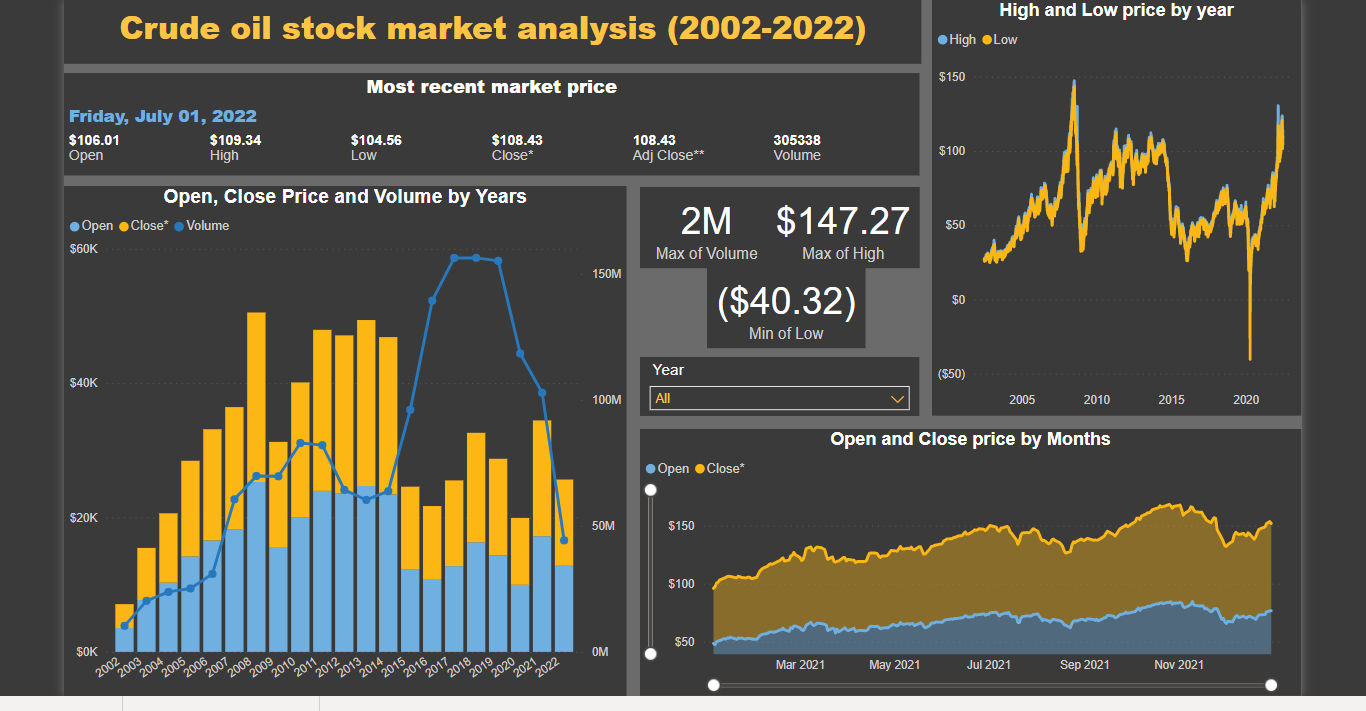

The page's visual inventory and layout, read from the dashboard file:
{"tool":"powerbi","page":{"name":"Page 1","canvas":[1280,720],"ordinal":0},"visuals":[{"type":"lineStackedColumnComboChart","title":"Open, Close Price  and Volume by Years","fields":{"Category":["CrudeOil.Date.Variation.Date Hierarchy.Year"],"Y":["Sum(CrudeOil.Open)","Sum(CrudeOil.Close*)"],"Y2":["Sum(CrudeOil.Volume)"]},"box":[0,192.3,581.9,527.7],"z":0},{"type":"stackedAreaChart","title":"Open and Close price by Months","fields":{"Y":["Sum(CrudeOil.Open)","Sum(CrudeOil.Close*)"],"Category":["CrudeOil.Date"]},"box":[596.1,443.9,683.9,276.1],"z":1000},{"type":"lineChart","title":"High and Low price by year","fields":{"Category":["CrudeOil.Date"],"Y":["Sum(CrudeOil.High)","Sum(CrudeOil.Low)"]},"box":[898.1,0,381.9,429.7],"z":2000},{"type":"multiRowCard","title":"Most recent market price ","fields":{"Values":["CrudeOil.Open","CrudeOil.High","CrudeOil.Low","CrudeOil.Close*","CrudeOil.Adj Close**","CrudeOil.Volume","CrudeOil.Date"]},"box":[0,75.9,884.9,106],"z":4000},{"type":"card","fields":{"Values":["Min(CrudeOil.Low)"]},"box":[665.3,276.5,164.2,83.5],"z":6000},{"type":"card","fields":{"Values":["Max(CrudeOil.High)"]},"box":[727.2,193,158.4,83.5],"z":7000},{"type":"card","fields":{"Values":["Max(CrudeOil.Volume)"]},"box":[596.2,193,138.2,83.5],"z":8000},{"type":"slicer","fields":{"Values":["CrudeOil.Date.Variation.Date Hierarchy.Year"]},"box":[596.1,369,289,60.6],"z":9000},{"type":"actionButton","box":[0,0,100.6,40],"z":10000},{"type":"textbox","box":[0,0,887,66.2],"z":11000}]}

Visuals, with their boxes on the page's 1280x720 design canvas (x1, y1, x2, y2). These are canvas units, not pixel positions in the 1366x711 screenshot, which may show the page scaled, cropped or inside an application window:
"Open, Close Price  and Volume by Years" lineStackedColumnComboChart: {"left": 0, "top": 192, "right": 582, "bottom": 720}
"Open and Close price by Months" stackedAreaChart: {"left": 596, "top": 444, "right": 1280, "bottom": 720}
"High and Low price by year" lineChart: {"left": 898, "top": 0, "right": 1280, "bottom": 430}
"Most recent market price " multiRowCard: {"left": 0, "top": 76, "right": 885, "bottom": 182}
card - Min(CrudeOil.Low): {"left": 665, "top": 276, "right": 830, "bottom": 360}
card - Max(CrudeOil.High): {"left": 727, "top": 193, "right": 886, "bottom": 276}
card - Max(CrudeOil.Volume): {"left": 596, "top": 193, "right": 734, "bottom": 276}
slicer - CrudeOil.Date.Variation.Date Hierarchy.Year: {"left": 596, "top": 369, "right": 885, "bottom": 430}
actionButton: {"left": 0, "top": 0, "right": 101, "bottom": 40}
textbox: {"left": 0, "top": 0, "right": 887, "bottom": 66}
